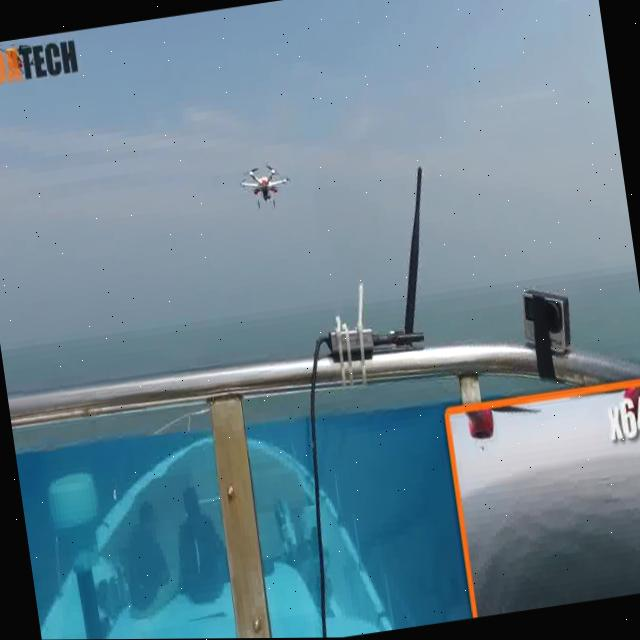drone: (230, 154, 302, 217)
